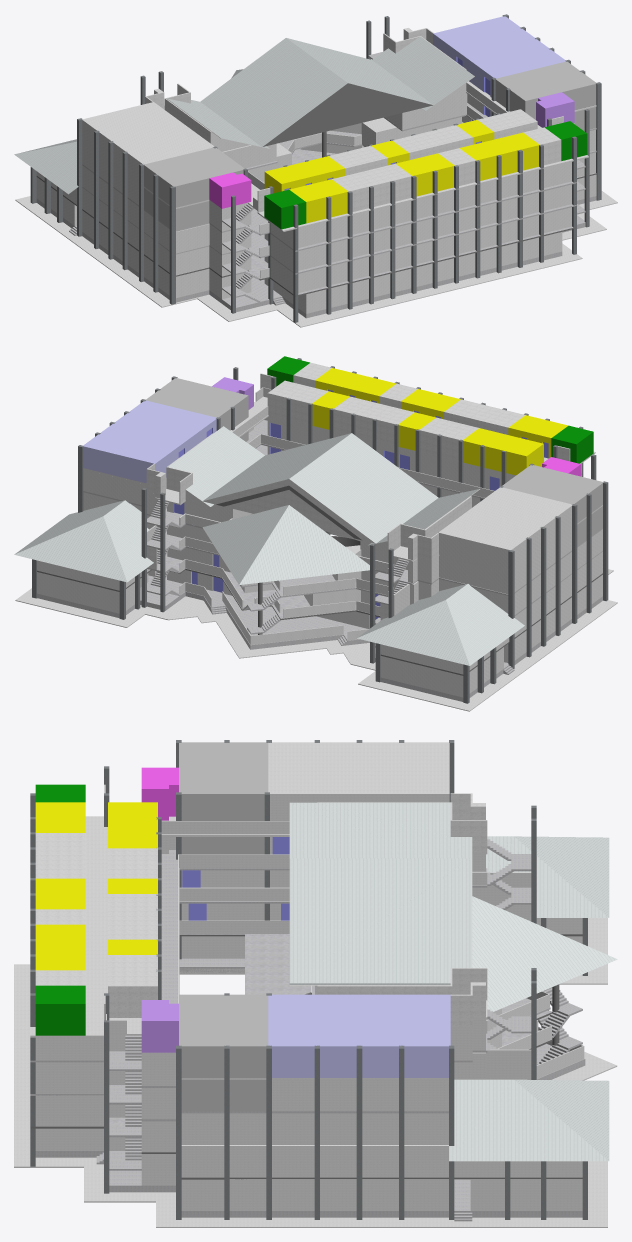
File: Annex 14F.gltf
The picture shows the model from 3 angles, top to bottom: view 1: azimuth 30°, elevation 25°; view 2: azimuth 150°, elevation 25°; view 3: azimuth 270°, elevation 25°; orthographic projection. The views are drawn at different scales.
Visible parts, largest first — view 1: object 155, Column#2 (×15), root, object 4, Column#1 (×8), object 170, object 186, object 179, object 181, object 182, object 12, object 65 (+48 smaller); view 2: object 155, root, object 71, object 4, object 170, object 186, object 70, Column#1 (×7), object 12, object 179, object 188, object 182 (+45 smaller); view 3: object 155, object 186, object 4, object 70, object 170, root, object 180, Column#1 (×7), object 182, object 71, object 181, object 169 (+52 smaller).
Boxes of the visible parts, <box> form: object 155: <box>200,38,433,146</box>; Column#2 (×15): <box>231,109,589,322</box>; root: <box>257,109,563,212</box>; object 4: <box>15,191,617,327</box>; Column#1 (×8): <box>77,82,601,304</box>; object 170: <box>82,102,214,182</box>; object 186: <box>433,16,565,97</box>; object 179: <box>372,36,474,111</box>; object 181: <box>144,147,244,207</box>; object 182: <box>495,61,596,119</box>; object 12: <box>36,196,596,318</box>; object 65: <box>264,241,432,293</box>; object 155: <box>202,433,438,584</box>; root: <box>260,362,570,461</box>; object 71: <box>357,583,524,665</box>; object 4: <box>15,533,617,711</box>; object 170: <box>438,487,572,571</box>; object 186: <box>83,400,216,483</box>; object 70: <box>14,500,153,582</box>; Column#1 (×7): <box>508,481,608,668</box>; object 12: <box>37,533,602,701</box>; object 179: <box>168,426,264,507</box>; object 188: <box>146,433,471,560</box>; object 182: <box>146,378,248,430</box>; object 155: <box>289,858,617,1011</box>; object 186: <box>268,994,450,1077</box>; object 4: <box>14,918,617,1227</box>; object 70: <box>449,1079,609,1161</box>; object 170: <box>268,742,449,820</box>; root: <box>35,784,157,1020</box>; object 180: <box>289,802,472,858</box>; Column#1 (×7): <box>176,1045,454,1219</box>; object 182: <box>179,994,268,1077</box>; object 71: <box>486,836,609,917</box>; object 181: <box>179,742,268,820</box>; object 169: <box>30,816,487,1079</box>.
Bounding box in the file's own units: 63.61 × 19.09 × 50.16.
Materials: 12 (4 with a texture image).
